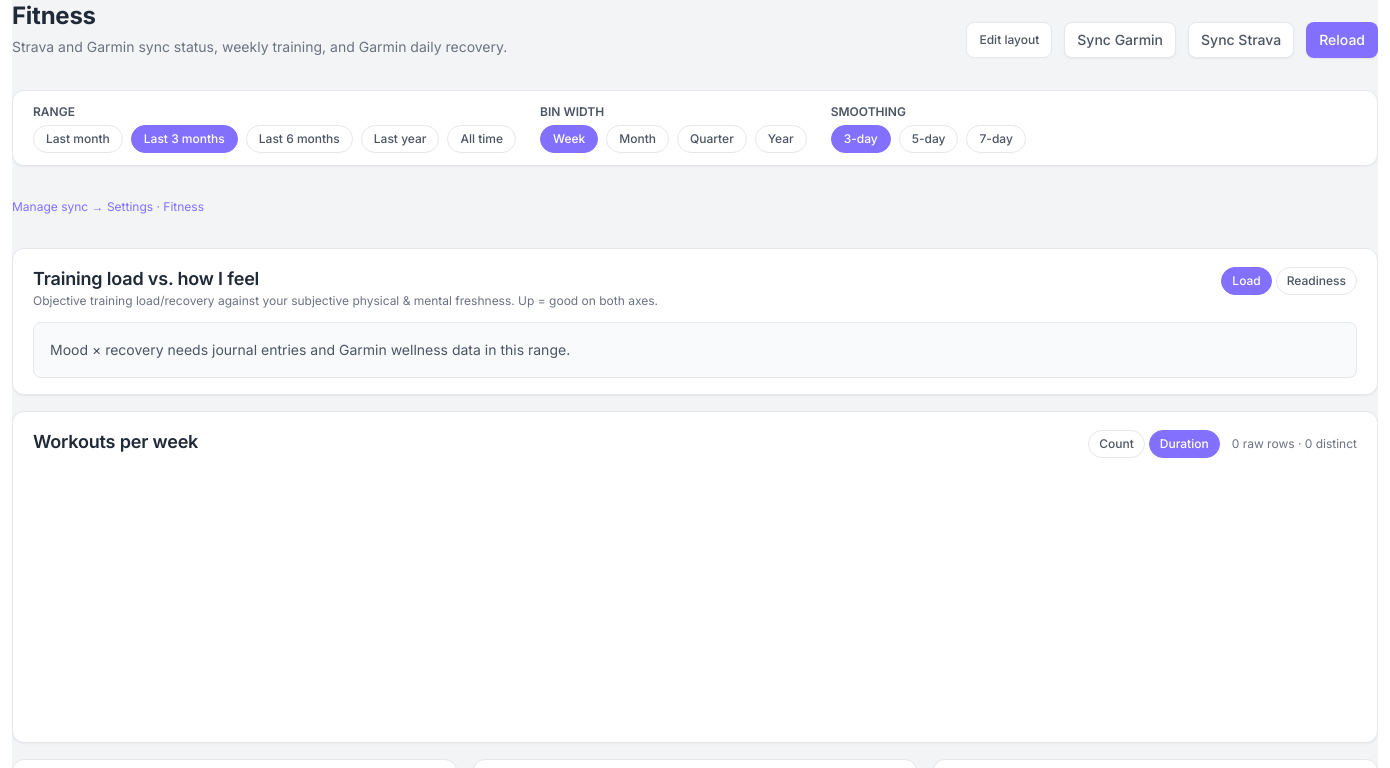
Test: FitnessView › shows tile edit controls only after Edit layout is toggled on
Click the button with test id "fitness-edit-layout-toggle" at [1009, 40], box [966, 22, 1052, 58]
(page scrolled)
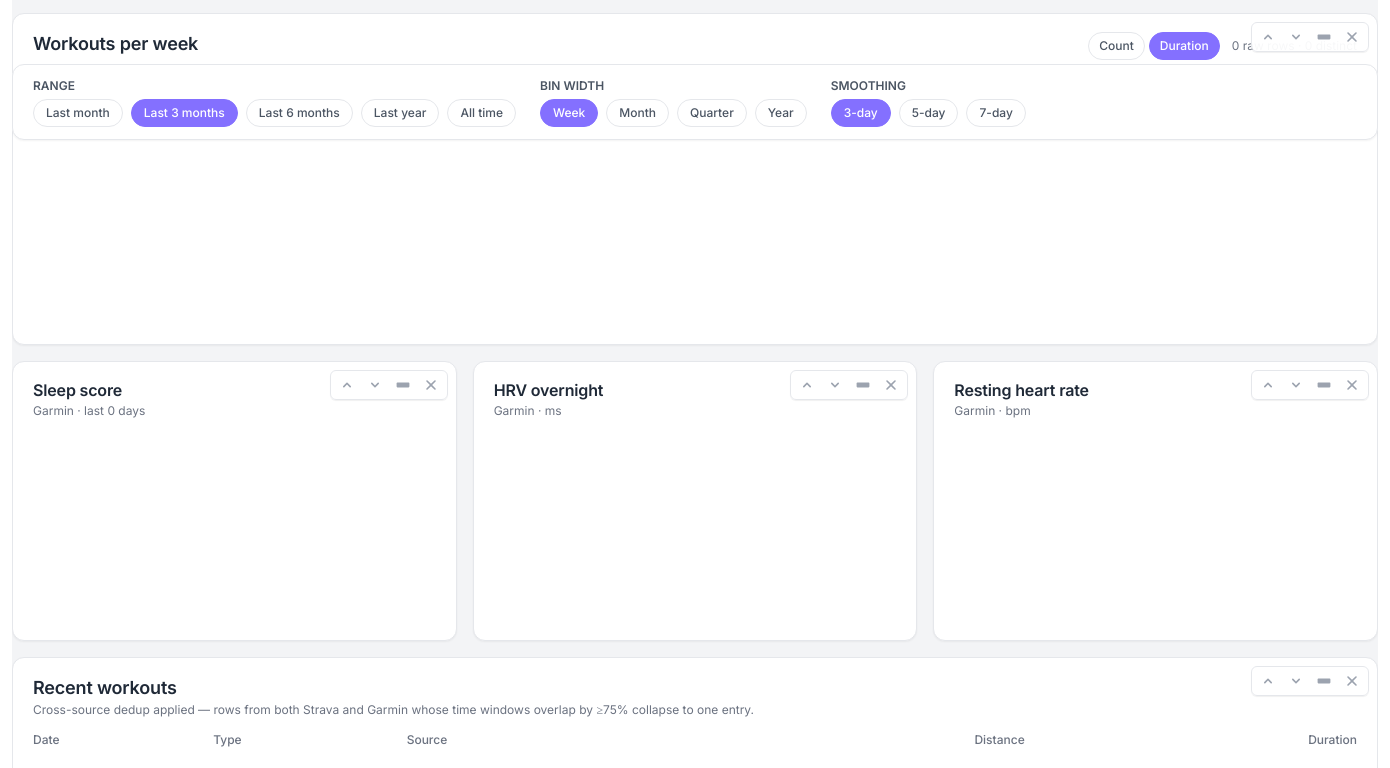
Check: the button with test id "tile-move-up-sleep" is shown, box [335, 373, 359, 397]
Check: the button with test id "tile-width-sleep" is shown, box [391, 373, 415, 397]
